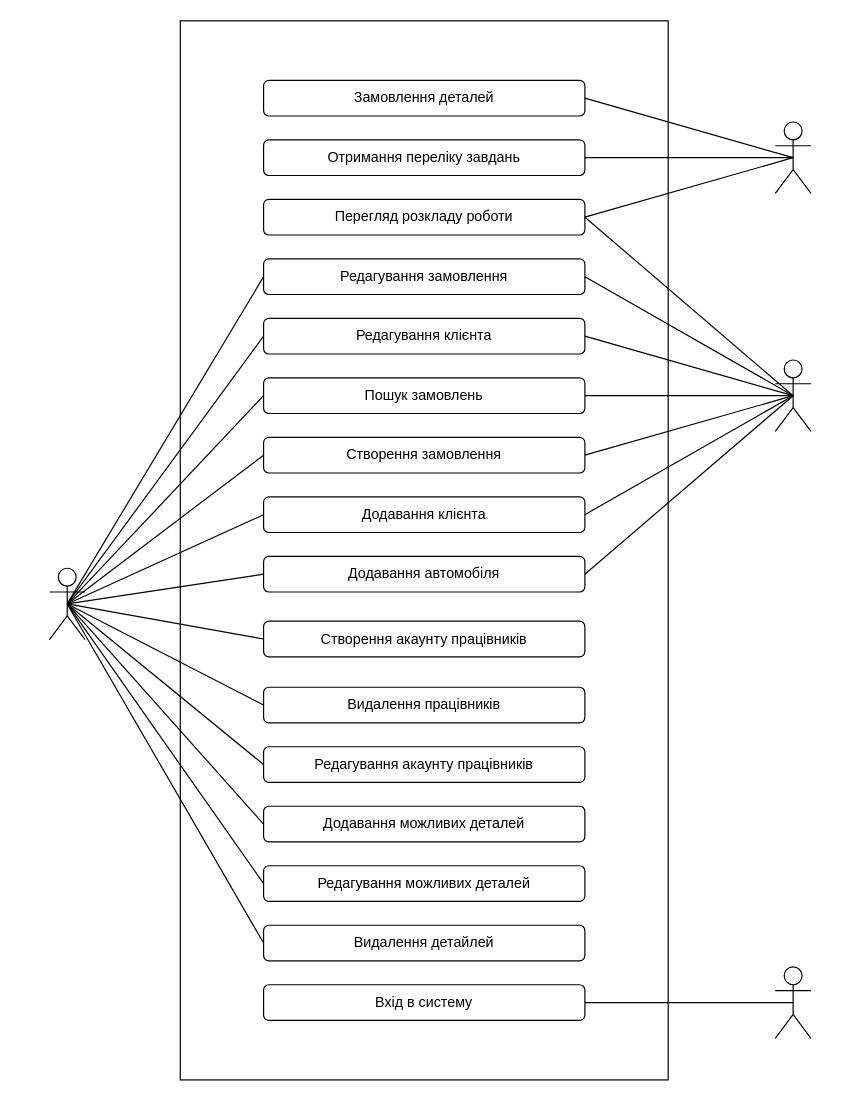
The diagram is 848 pixels wide and 1101 high, and some of its shapes have lost their labels. Here are the shapes that lost their labels. From the top down, the box of each, then its label:
(774, 121, 811, 193): Працівник
(774, 359, 811, 431): Менеджер
(48, 567, 85, 640): Адміністратор
(774, 966, 811, 1038): Гість
